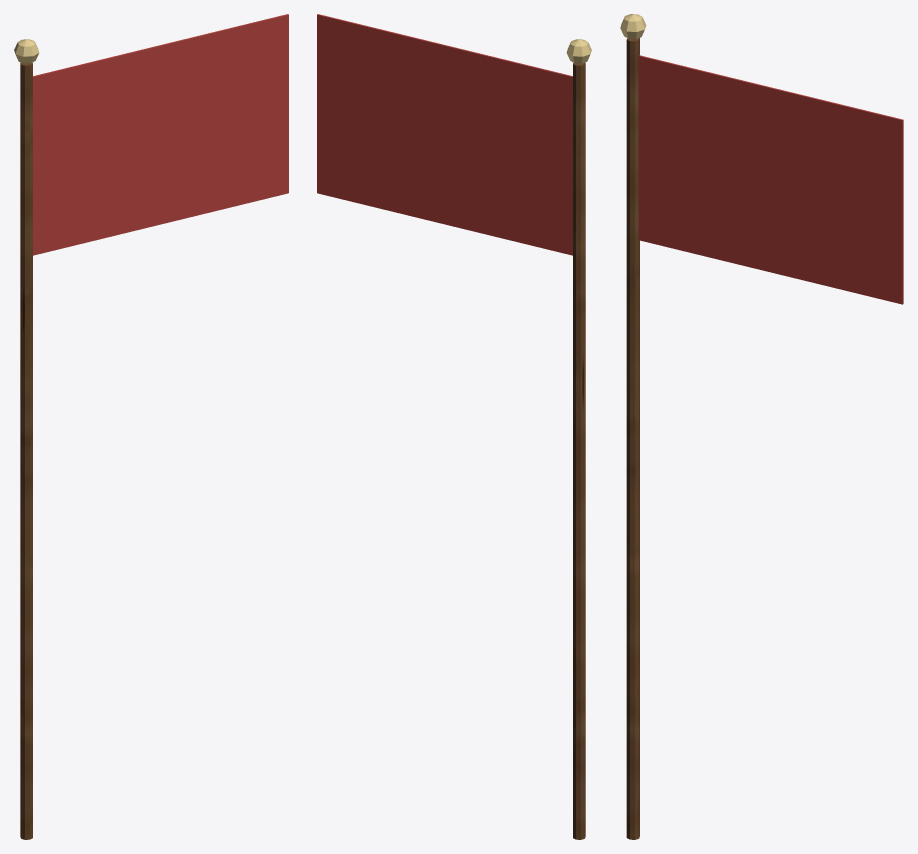
Rendered from banner_persian.glb.
3 views of the same model, side by side, from view 1: azimuth 30°, elevation 25°; view 2: azimuth 150°, elevation 25°; view 3: azimuth 330°, elevation 25° (orthographic). The views are drawn at different scales.
Parts seen in each view (by area): view 1: Banner_Persian; view 2: Banner_Persian; view 3: Banner_Persian.
Part boxes in pixels (box(x1,y1,x2,y2)): Banner_Persian: box(14, 14, 288, 839); Banner_Persian: box(317, 14, 591, 839); Banner_Persian: box(620, 14, 903, 839).
Bounding box in the file's own units: 0.96 × 2.68 × 0.0802.
Materials: 3 (1 with a texture image).
